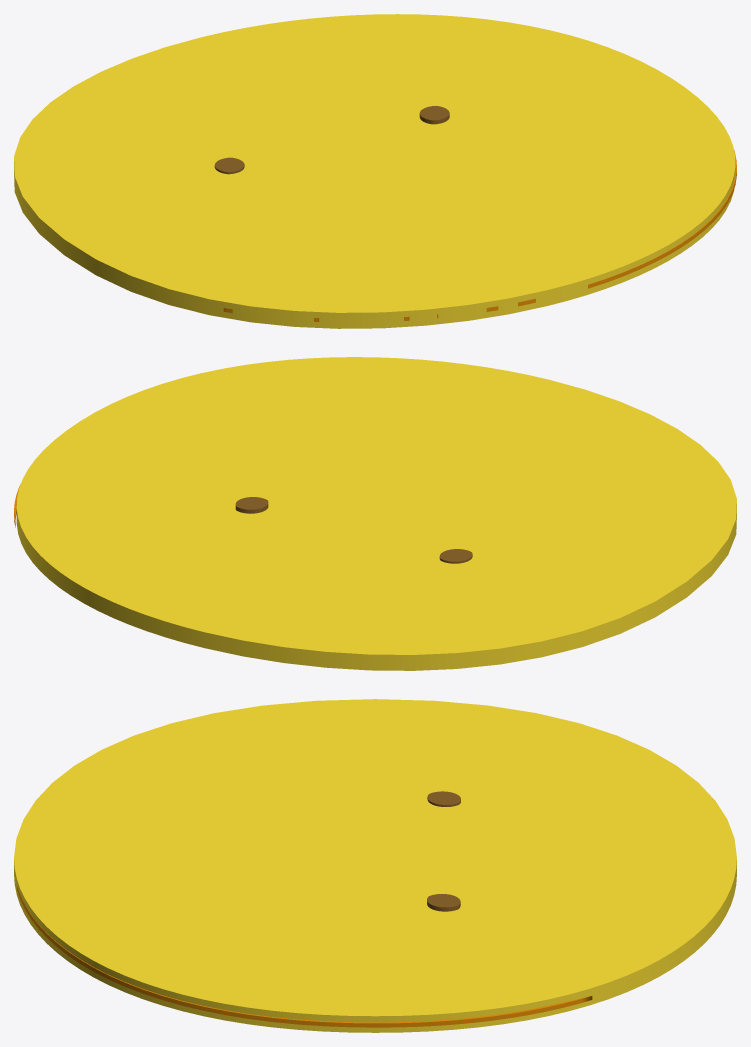
File: emoji_u1f636.glb
3 renders of one model, top to bottom at view 1: azimuth 30°, elevation 25°; view 2: azimuth 150°, elevation 25°; view 3: azimuth 270°, elevation 25°, orthographic. The views are drawn at different scales.
Parts seen in each view (by area): view 1: emoji_u1f636; view 2: emoji_u1f636; view 3: emoji_u1f636.
Boxes of the visible parts, x1,y1,x2,y2 form: emoji_u1f636: (14,14,736,328); emoji_u1f636: (14,357,736,670); emoji_u1f636: (14,699,736,1032).
Bounding box in the file's own units: 0.0327 × 0.0012 × 0.0315.
